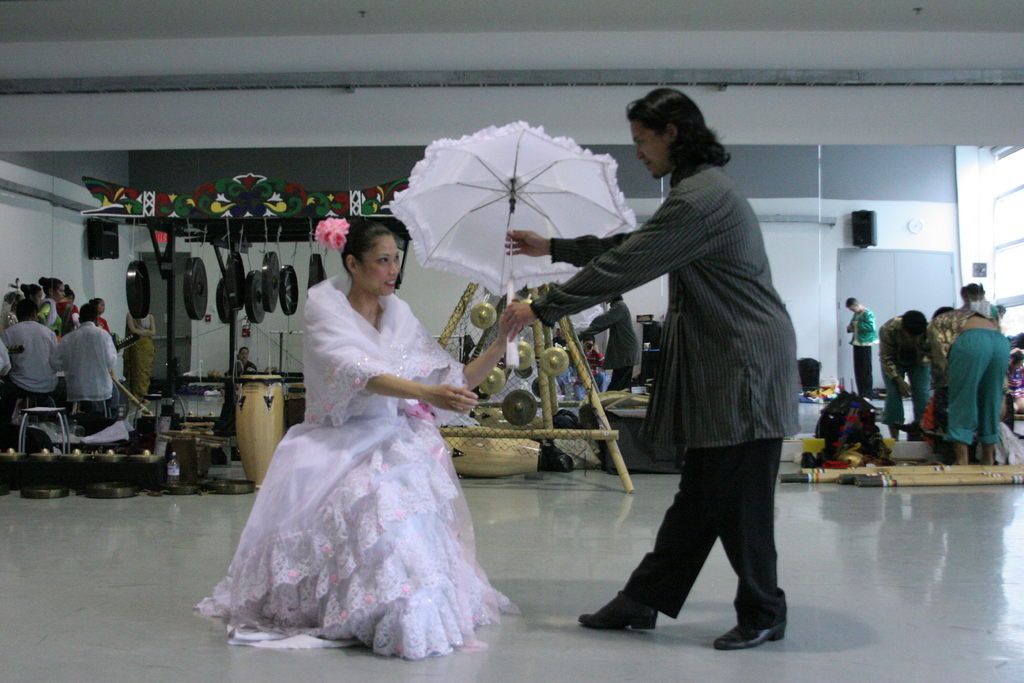Person: (500, 85, 805, 649), (847, 277, 1024, 466), (0, 274, 156, 444), (574, 293, 640, 394), (575, 332, 606, 396), (223, 346, 260, 377)
